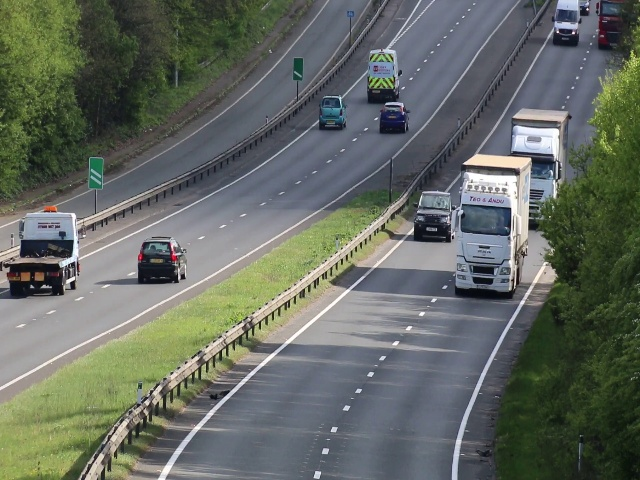car: (457, 185, 521, 297), (5, 212, 79, 295), (136, 235, 188, 282), (364, 48, 402, 104), (530, 139, 556, 220), (413, 189, 451, 240), (553, 1, 579, 46), (316, 93, 347, 128), (379, 100, 410, 132)
